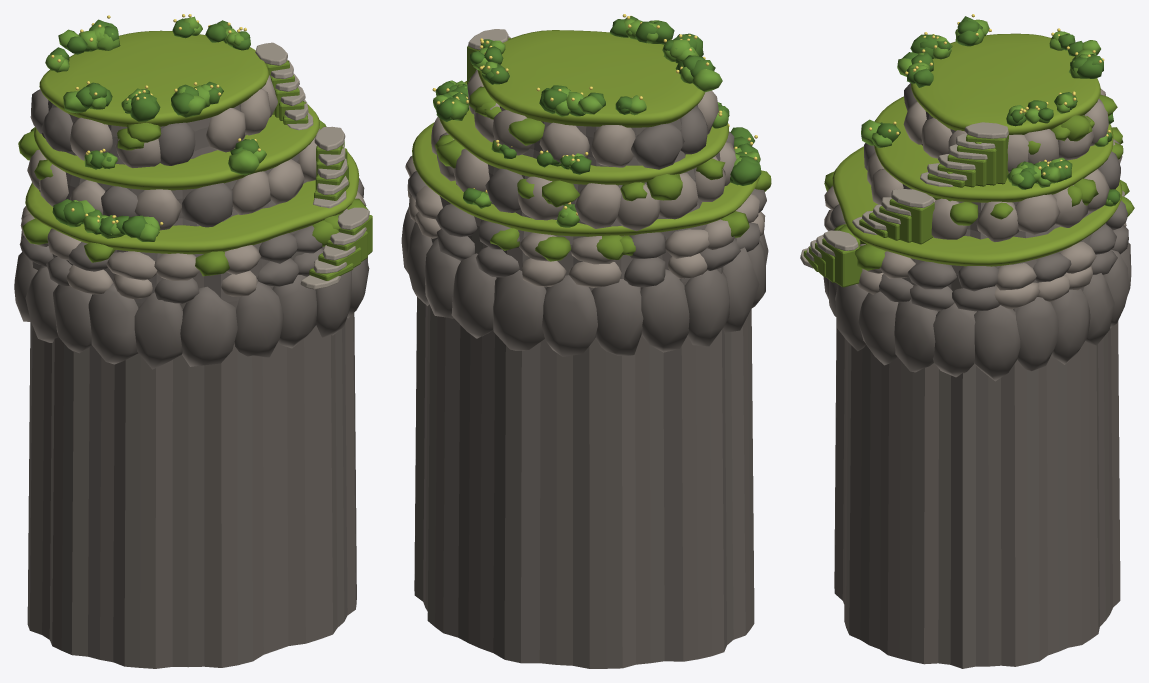
File: promontory.glb
3 views of the same model, side by side, from view 1: azimuth 30°, elevation 25°; view 2: azimuth 150°, elevation 25°; view 3: azimuth 270°, elevation 25° (orthographic). The views are drawn at different scales.
Parts seen in each view (by area): view 1: stone_shadow, moss_top, stone, moss_lip, bush, step_stone, bush_light, flower; view 2: stone_shadow, moss_top, stone, moss_lip, bush, bush_light, flower; view 3: stone_shadow, moss_top, stone, moss_lip, bush, step_stone, bush_light, flower.
Boxes of the visible parts, left/top/right/bottom form: stone_shadow: left=14, top=89, right=369, bottom=668; moss_top: left=25, top=30, right=359, bottom=254; stone: left=20, top=75, right=366, bottom=298; moss_lip: left=18, top=60, right=372, bottom=280; bush: left=50, top=18, right=259, bottom=237; step_stone: left=255, top=42, right=369, bottom=289; bush_light: left=45, top=16, right=266, bottom=241; flower: left=51, top=14, right=260, bottom=225; stone_shadow: left=401, top=104, right=768, bottom=668; moss_top: left=412, top=30, right=759, bottom=236; stone: left=405, top=69, right=765, bottom=287; moss_lip: left=435, top=38, right=771, bottom=261; bush: left=435, top=16, right=761, bottom=211; bush_light: left=433, top=19, right=760, bottom=227; flower: left=432, top=14, right=757, bottom=215; stone_shadow: left=823, top=83, right=1131, bottom=668; moss_top: left=832, top=33, right=1122, bottom=266; stone: left=824, top=89, right=1126, bottom=309; moss_lip: left=803, top=94, right=1134, bottom=287; bush: left=876, top=16, right=1120, bottom=205; step_stone: left=800, top=122, right=1008, bottom=268; bush_light: left=861, top=19, right=1115, bottom=206; flower: left=869, top=14, right=1110, bottom=175.
Bounding box in the file's own units: 26.83 × 43.74 × 24.98.
